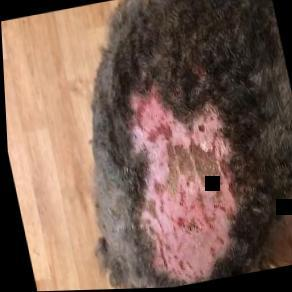skin_lesions: (104, 72, 256, 290)
